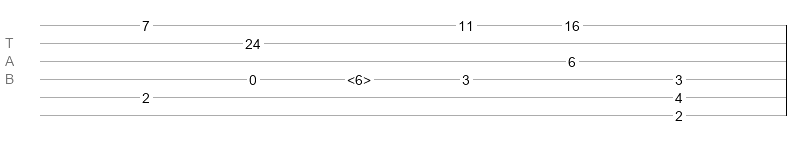0: (249, 72, 257, 82)
11: (458, 18, 474, 28)
16: (564, 18, 580, 28)
2: (142, 90, 150, 100), (675, 108, 683, 118)
24: (245, 36, 261, 46)
3: (462, 72, 470, 82), (675, 72, 683, 82)
4: (675, 90, 683, 100)
6: (568, 54, 576, 64)
7: (142, 18, 150, 28)
harmonic: (347, 72, 371, 82)
